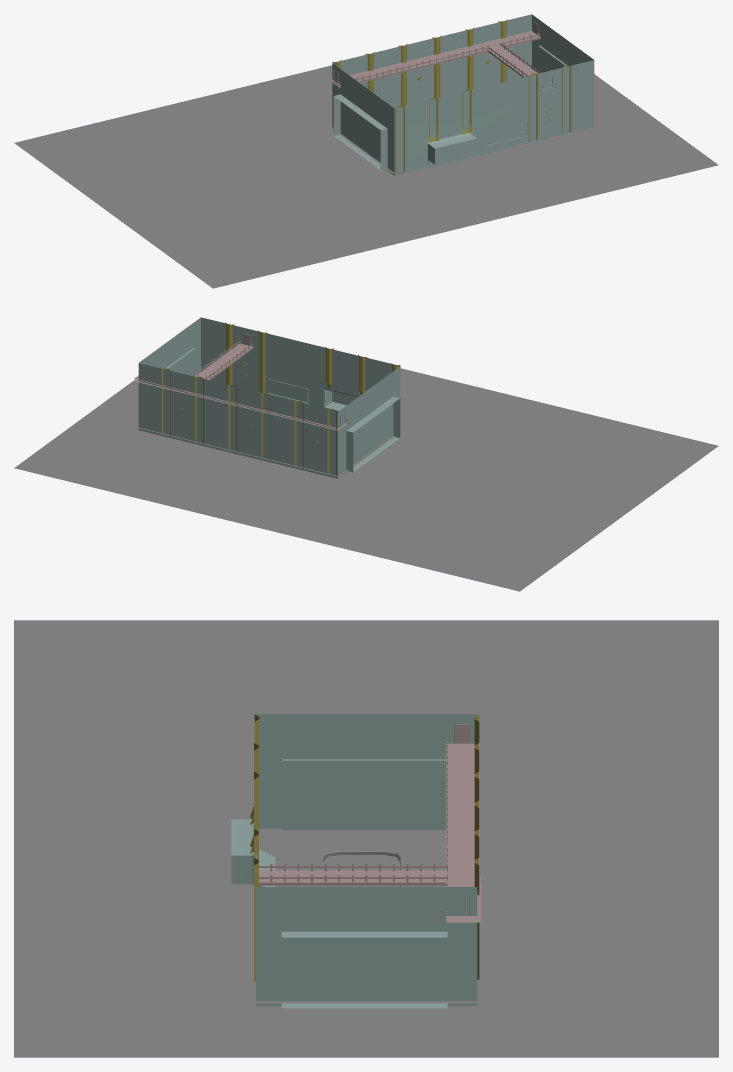
File: Hangar_base.fbx
The picture shows the model from 3 angles, top to bottom: view 1: azimuth 30°, elevation 25°; view 2: azimuth 150°, elevation 25°; view 3: azimuth 270°, elevation 25°; orthographic projection. The views are drawn at different scales.
Visible parts, largest first — view 1: hangar_basic; view 2: hangar_basic; view 3: hangar_basic.
Part boxes in pixels (x1,y1,x2,y2): hangar_basic: [14, 14, 718, 288]; hangar_basic: [14, 317, 718, 591]; hangar_basic: [14, 620, 718, 1057].
Bounding box in the file's own units: 3807 × 499 × 2596.
